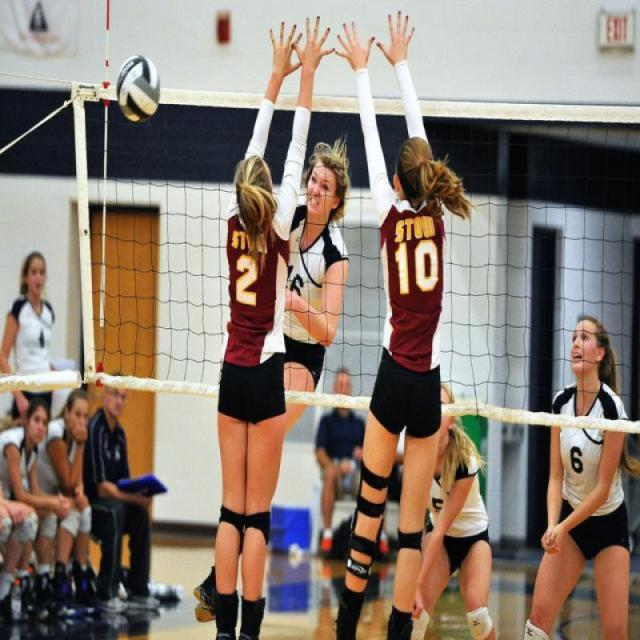volleyball: (116, 49, 162, 124)
